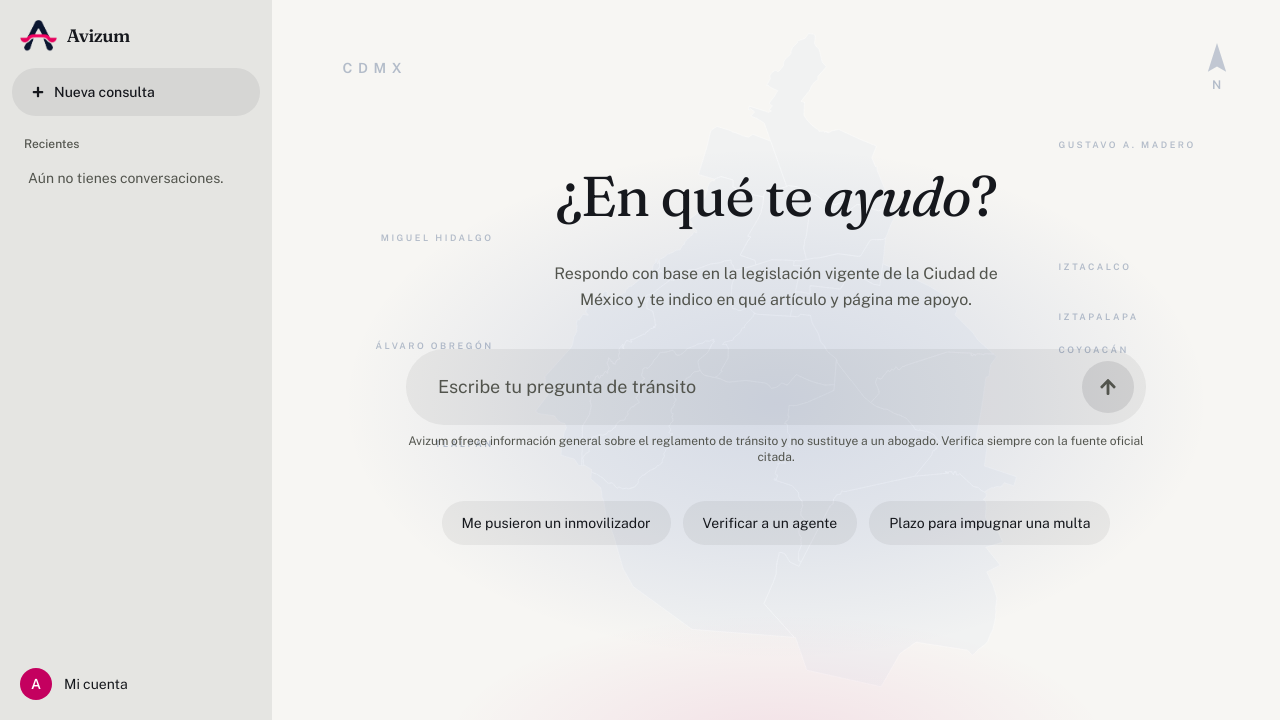
Test: the daily limit is explained and the typed question is not lost
The image size is (1280, 720).
Expected: the heading "¿En qué te ayudo?" is shown, [555,167,997,225]
Type "otra duda" into the text box labelled "tu pregunta".
click(754, 387); type("otra duda")  # box [438,373,1070,401]
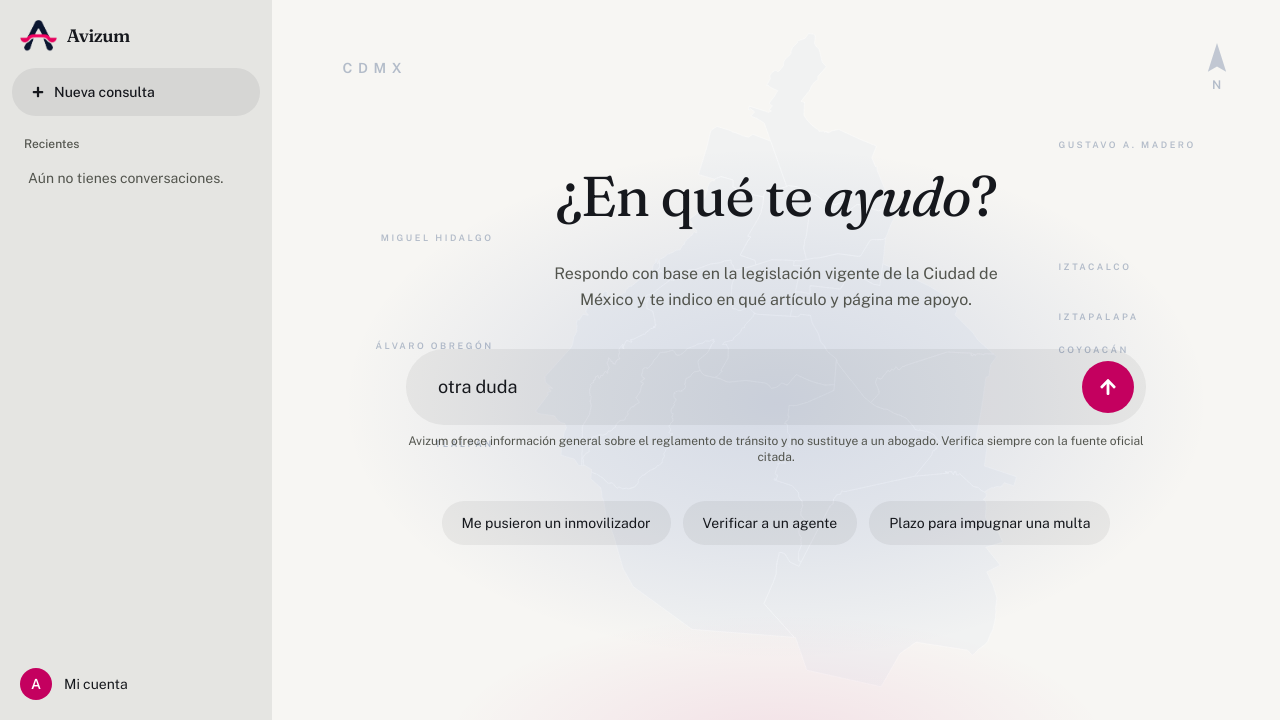
Press Enter in the text box named "tu pregunta", box [438,373,1070,401]
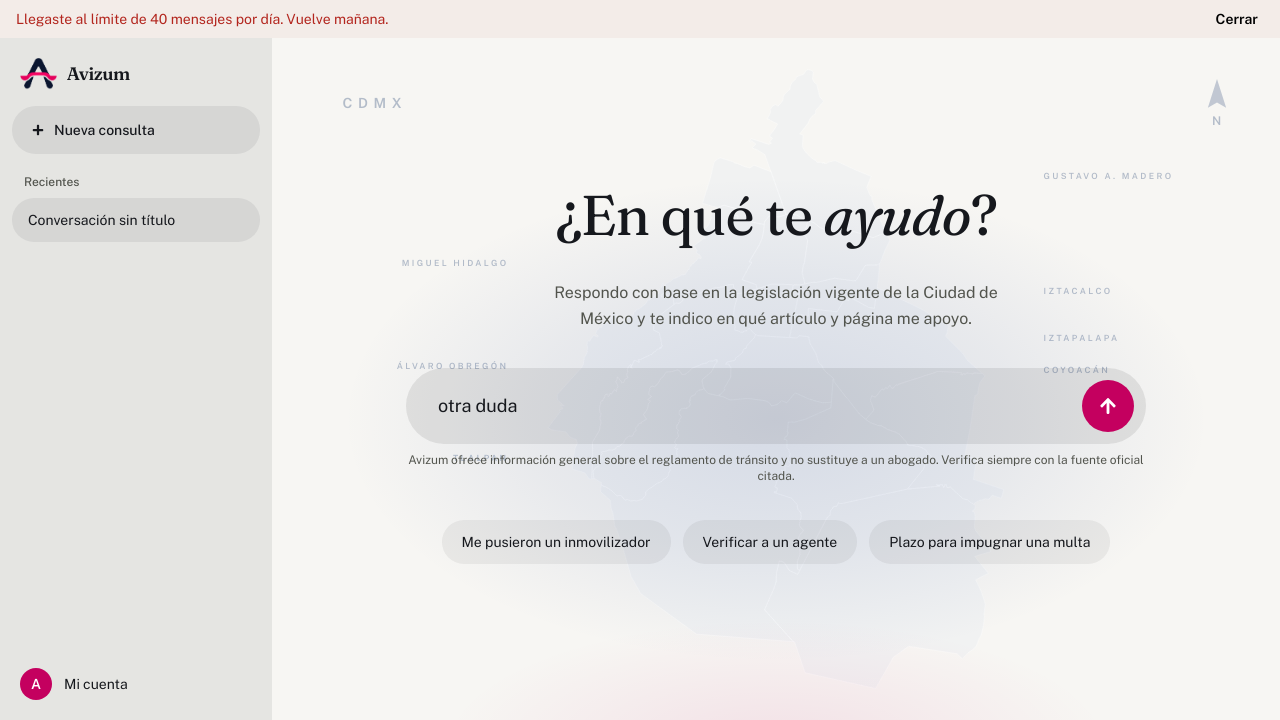
Now the text "Llegaste al límite de 40 mensajes por día. Vuelve mañana." is shown, box [16,11,388,27]
